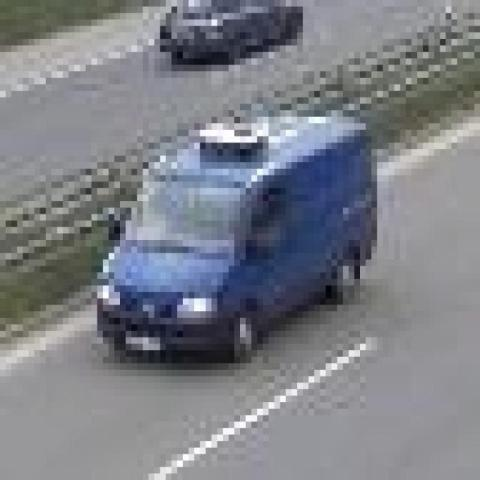van: (100, 117, 374, 364)
